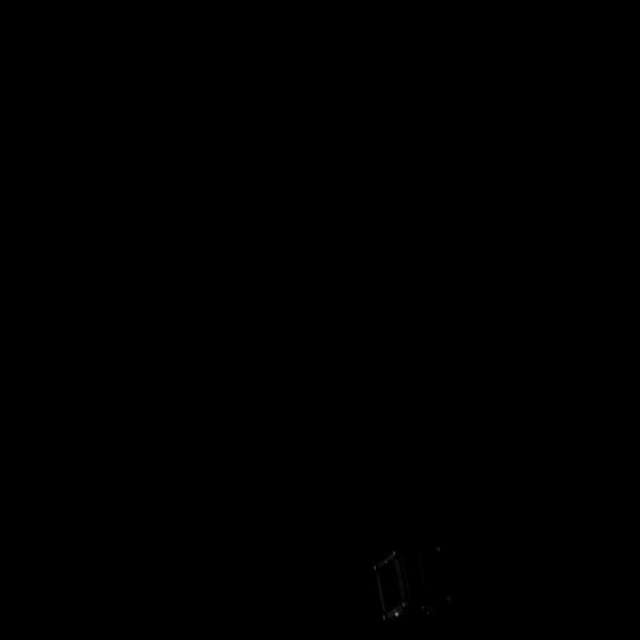medium_debris: (355, 523, 460, 639)
